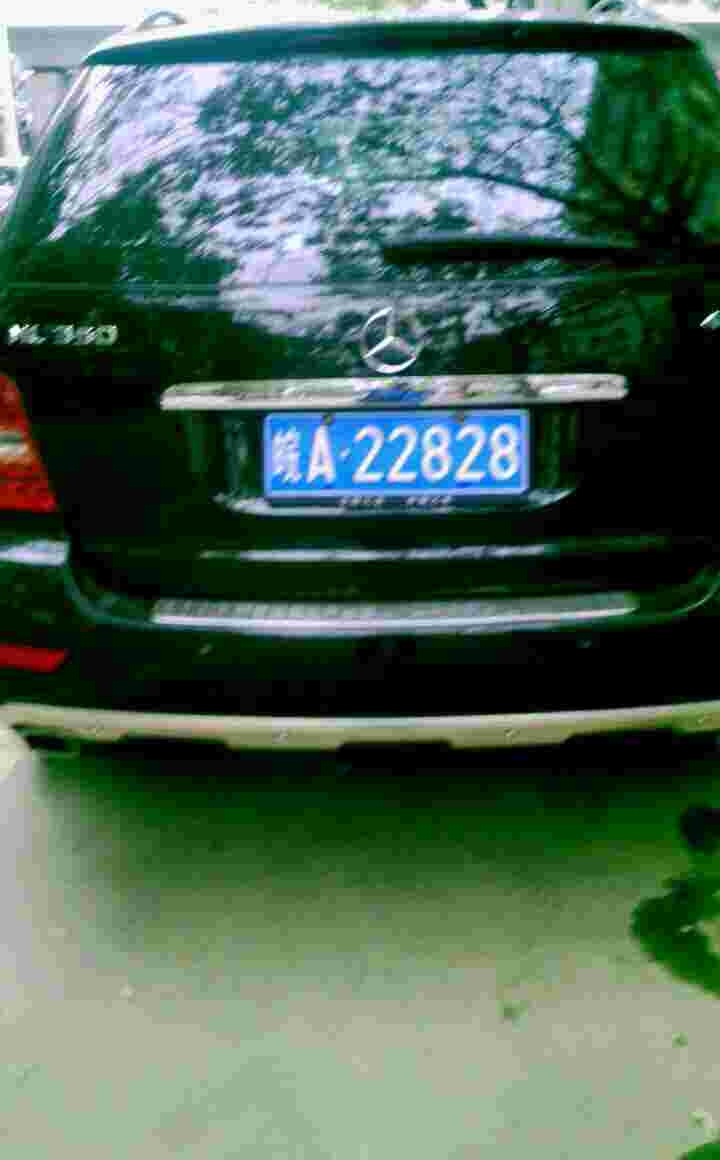license_plate: (256, 407, 529, 502)
